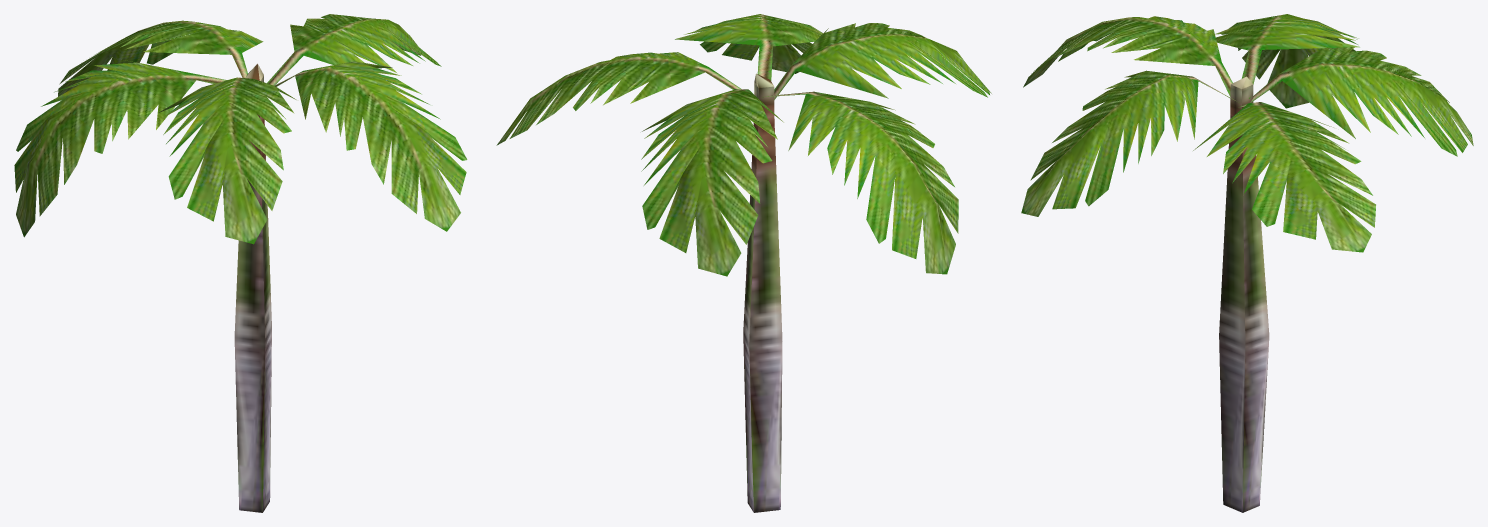
3 renders of one model, left to right at view 1: azimuth 30°, elevation 25°; view 2: azimuth 150°, elevation 25°; view 3: azimuth 270°, elevation 25°, orthographic.
Visible parts, largest first — view 1: 5b1a5c7d1c21e330bca3efd2; view 2: 5b1a5c7d1c21e330bca3efd2; view 3: 5b1a5c7d1c21e330bca3efd2.
Boxes of the visible parts, left/top/right/bottom form: 5b1a5c7d1c21e330bca3efd2: left=14, top=14, right=467, bottom=512; 5b1a5c7d1c21e330bca3efd2: left=496, top=14, right=991, bottom=512; 5b1a5c7d1c21e330bca3efd2: left=1021, top=14, right=1473, bottom=512.
Size of the model in its own units: 4.43 by 4.63 by 4.19.
Materials: 1 (1 with a texture image).
